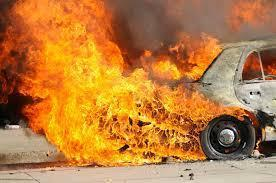fire: (0, 0, 274, 161)
